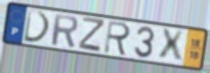3: (133, 25, 157, 59)
D: (22, 8, 53, 45)
R: (102, 19, 133, 58), (50, 12, 80, 49)
X: (158, 28, 186, 64)
Z: (77, 16, 107, 54)
